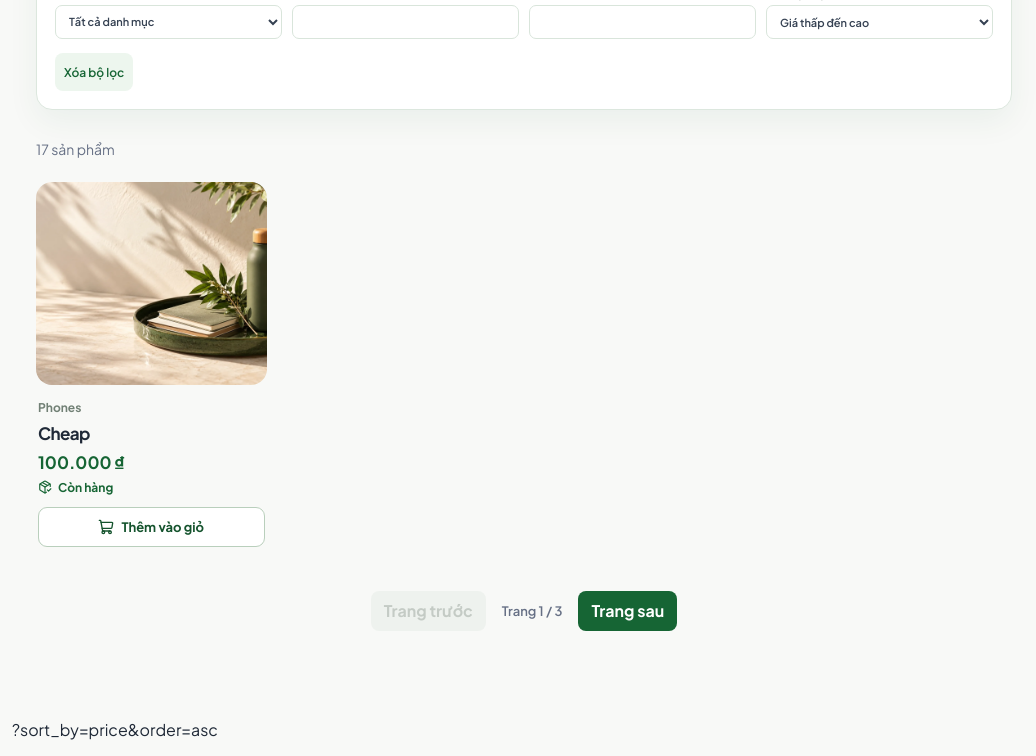
Test: StorefrontShopPage: other sort orders keep the offset API and page numbers › a non-default sort in the URL uses /products with totals and numbered pages
(page scrolled)
Expected: the link "Cheap" is shown, [38,422,90,444]
Expected: the text "17 sản phẩm" is shown, [36,140,115,158]
Click the button "Trang sau" at (628, 611), box [578,591,677,631]
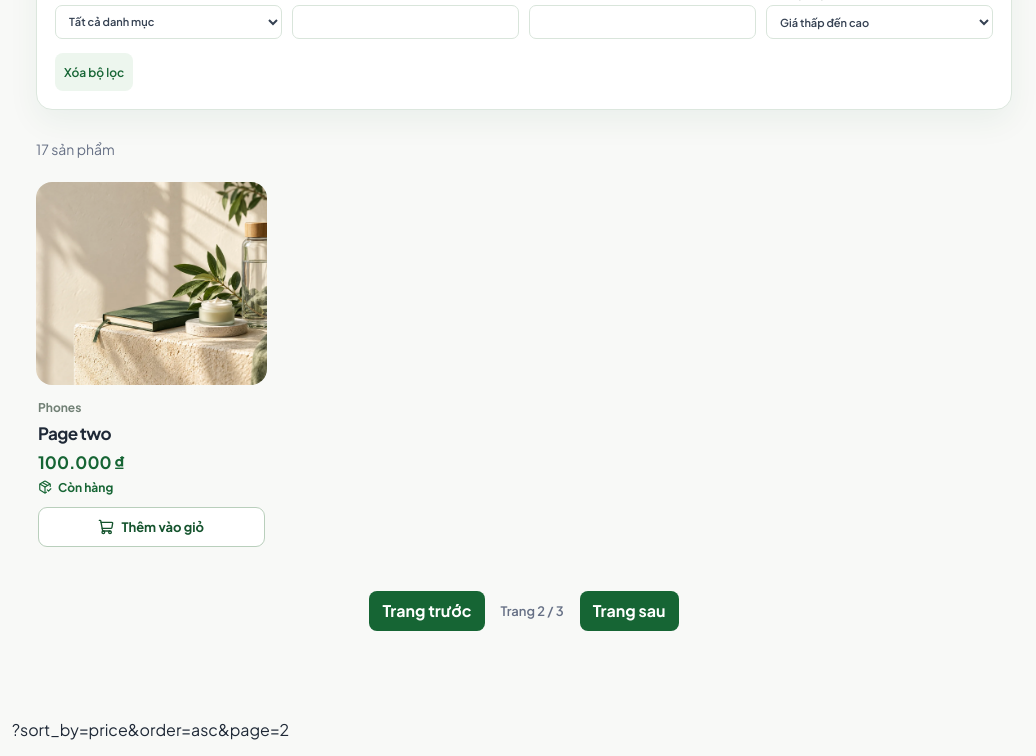
Expected: the link "Page two" is shown, [38,422,111,444]
